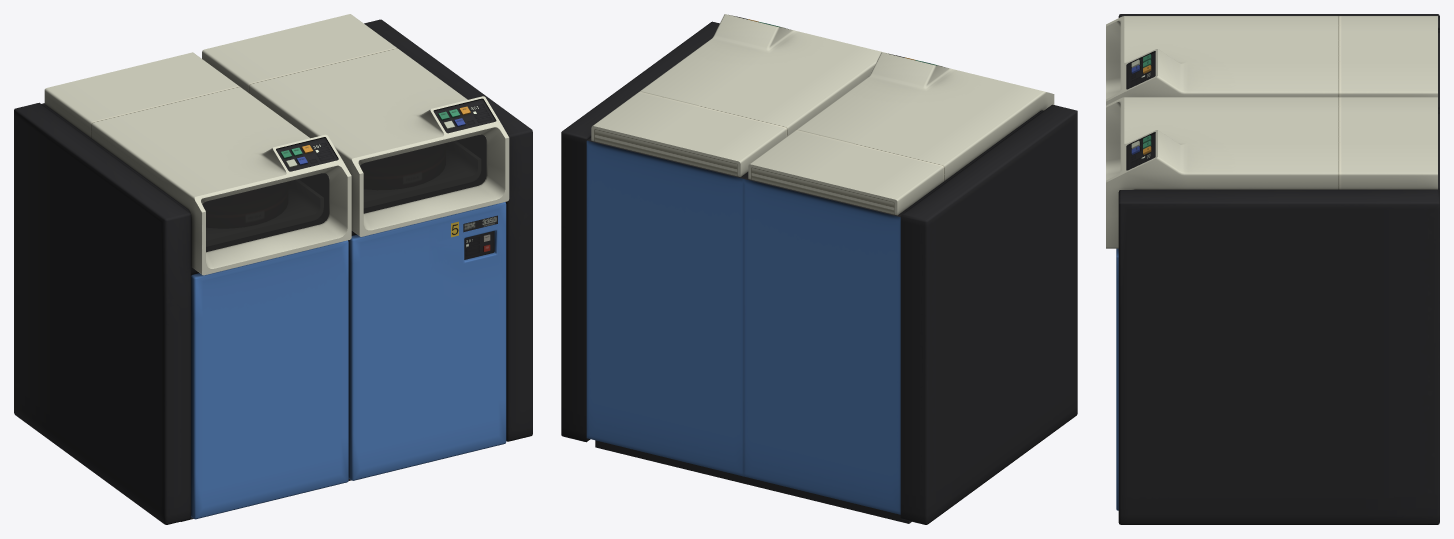
Rendered from IBM.glb.
3 renders of one model, left to right at view 1: azimuth 30°, elevation 25°; view 2: azimuth 150°, elevation 25°; view 3: azimuth 270°, elevation 25°, orthographic. The views are drawn at different scales.
Visible parts, largest first — view 1: ibm_3350_0, ibm_3350_a_3, ibm_3350_buffer_a_2, ibm_3350_buffer_b_1; view 2: ibm_3350_0, ibm_3350_a_3, ibm_3350_buffer_a_2, ibm_3350_buffer_b_1; view 3: ibm_3350_buffer_b_1, ibm_3350_a_3, ibm_3350_0, ibm_3350_buffer_a_2.
Boxes of the visible parts, <box> form: ibm_3350_0: <box>41,52,351,521</box>; ibm_3350_a_3: <box>202,14,509,480</box>; ibm_3350_buffer_a_2: <box>14,102,190,524</box>; ibm_3350_buffer_b_1: <box>364,19,532,441</box>; ibm_3350_0: <box>743,52,1054,523</box>; ibm_3350_a_3: <box>586,14,889,485</box>; ibm_3350_buffer_a_2: <box>900,104,1077,524</box>; ibm_3350_buffer_b_1: <box>561,21,719,442</box>; ibm_3350_buffer_b_1: <box>1118,190,1439,524</box>; ibm_3350_a_3: <box>1106,97,1439,510</box>; ibm_3350_0: <box>1106,16,1439,110</box>; ibm_3350_buffer_a_2: <box>1118,14,1439,29</box>.
Bounding box in the file's own units: 11.78 × 10.54 × 8.77.
Materials: 2 (2 with a texture image).
